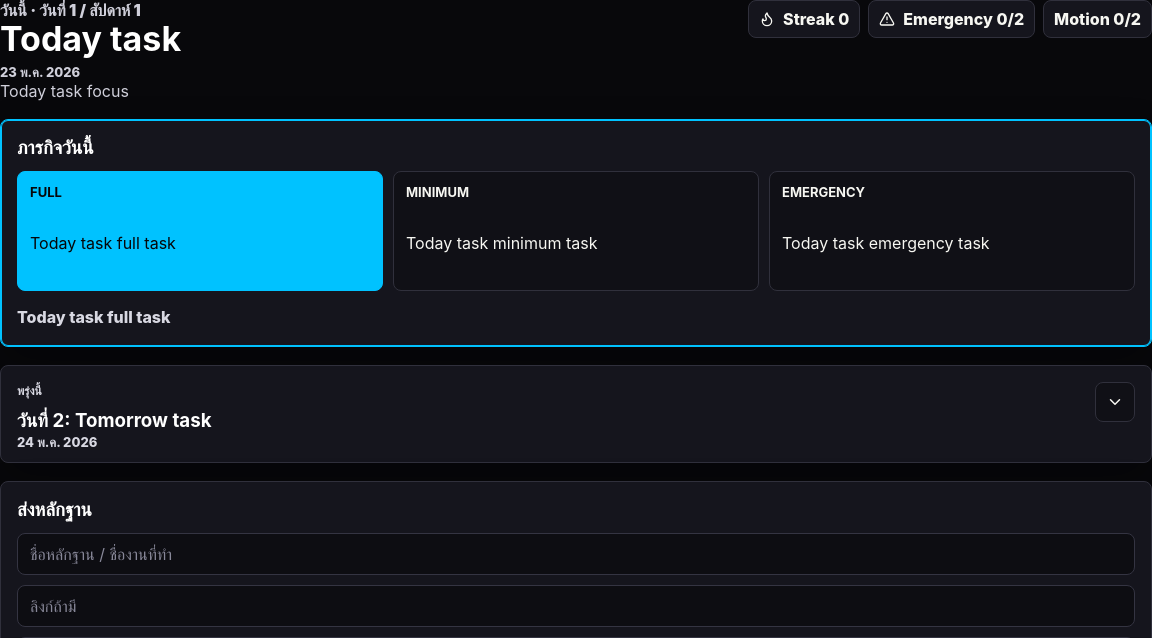
Test: TodayCommandCenter › shows tomorrow mission details without marking it done
Expected: the heading "วันที่ 2: Tomorrow task" is shown, [17,409,212,432]
Expected: the text "23 พ.ค. 2026" is shown, [0,64,80,80]
Click the button named "Expand tomorrow mission" at (1115,402), box [1095,382,1135,422]
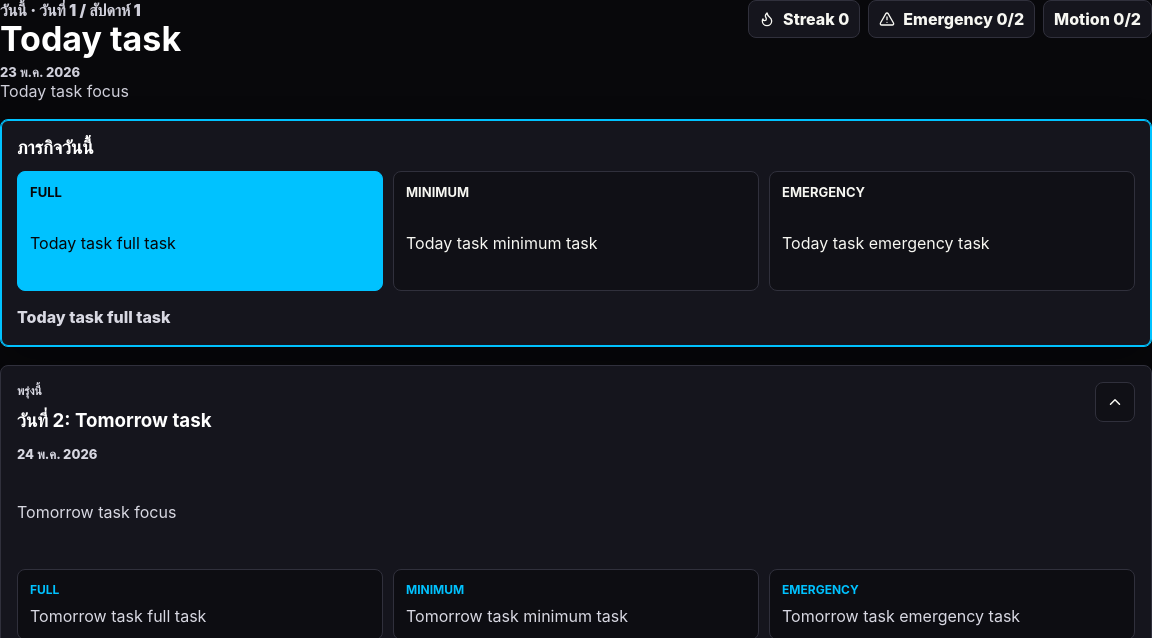
Now the text "Tomorrow task focus" is shown, box [17,502,176,522]
Now the text "Tomorrow task full task" is shown, box [30,606,206,626]
